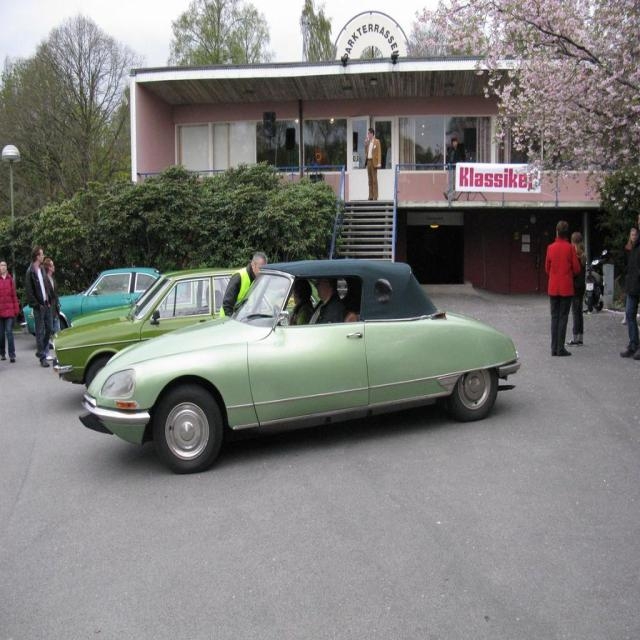car: (80, 258, 519, 480)
